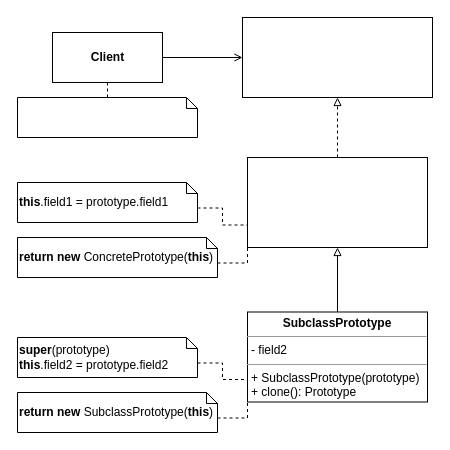
Some shapes in this 450 by 450 pixel diagram are drawn without their labels. Here are the shapes that lost their labels. From the top down, the centre of each, then its label:
the point at 337,57: <<Interface>> Prototype + clone(): Prototype
the point at 107,117: copy = existing.clone()
the point at 337,202: ConcretePrototype - field1 + ConcretePrototype(prototype) + clone(): Prototype
